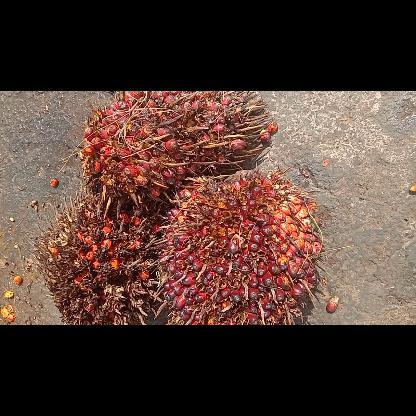TBS masak: (150, 170, 324, 324), (79, 91, 268, 209)
Terlalu masak: (30, 188, 164, 324)
